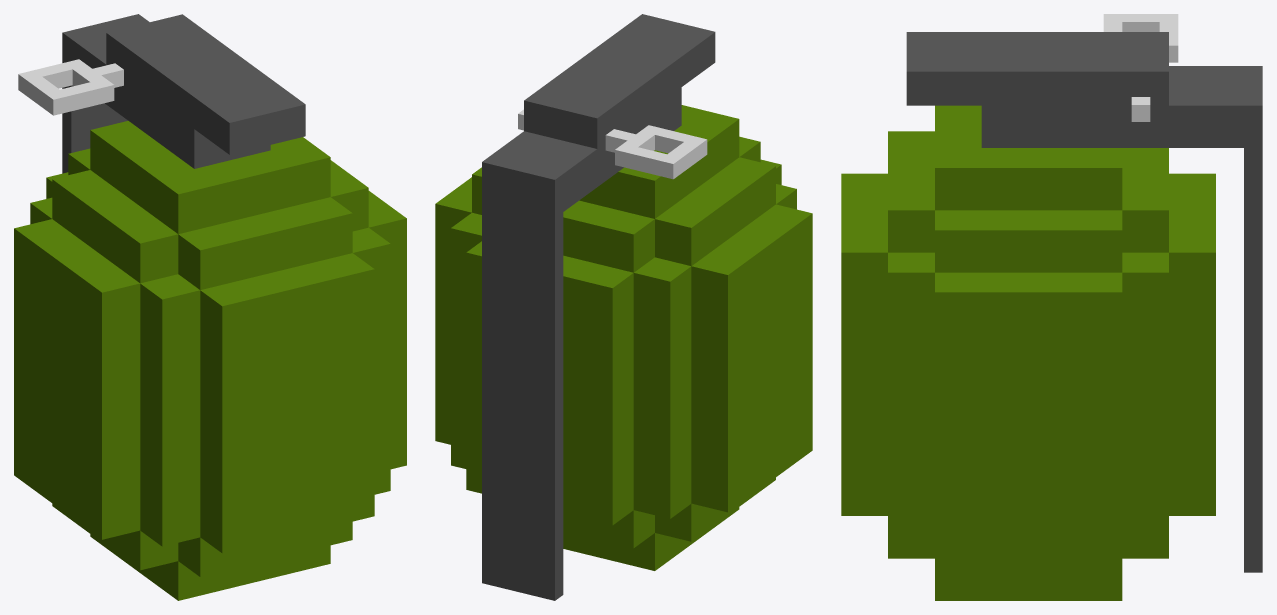
Rendered from fragGranade.fbx.
3 views of the same model, side by side, from view 1: azimuth 30°, elevation 25°; view 2: azimuth 150°, elevation 25°; view 3: azimuth 270°, elevation 25° (orthographic). The views are drawn at different scales.
Parts seen in each view (by area): view 1: fragGranade_body, fragGranade_fuse, fragGranade_pin; view 2: fragGranade_body, fragGranade_fuse, fragGranade_pin; view 3: fragGranade_body, fragGranade_fuse, fragGranade_pin.
Boxes of the visible parts, bbox=[...] form: fragGranade_body: bbox=[14, 120, 406, 600]; fragGranade_fuse: bbox=[62, 14, 305, 173]; fragGranade_pin: bbox=[18, 59, 123, 115]; fragGranade_body: bbox=[435, 105, 812, 570]; fragGranade_fuse: bbox=[482, 14, 715, 600]; fragGranade_pin: bbox=[518, 109, 707, 179]; fragGranade_body: bbox=[841, 105, 1215, 600]; fragGranade_fuse: bbox=[906, 32, 1262, 572]; fragGranade_pin: bbox=[1103, 14, 1178, 121].
Bounding box in the file's own units: 80 × 120 × 90.
